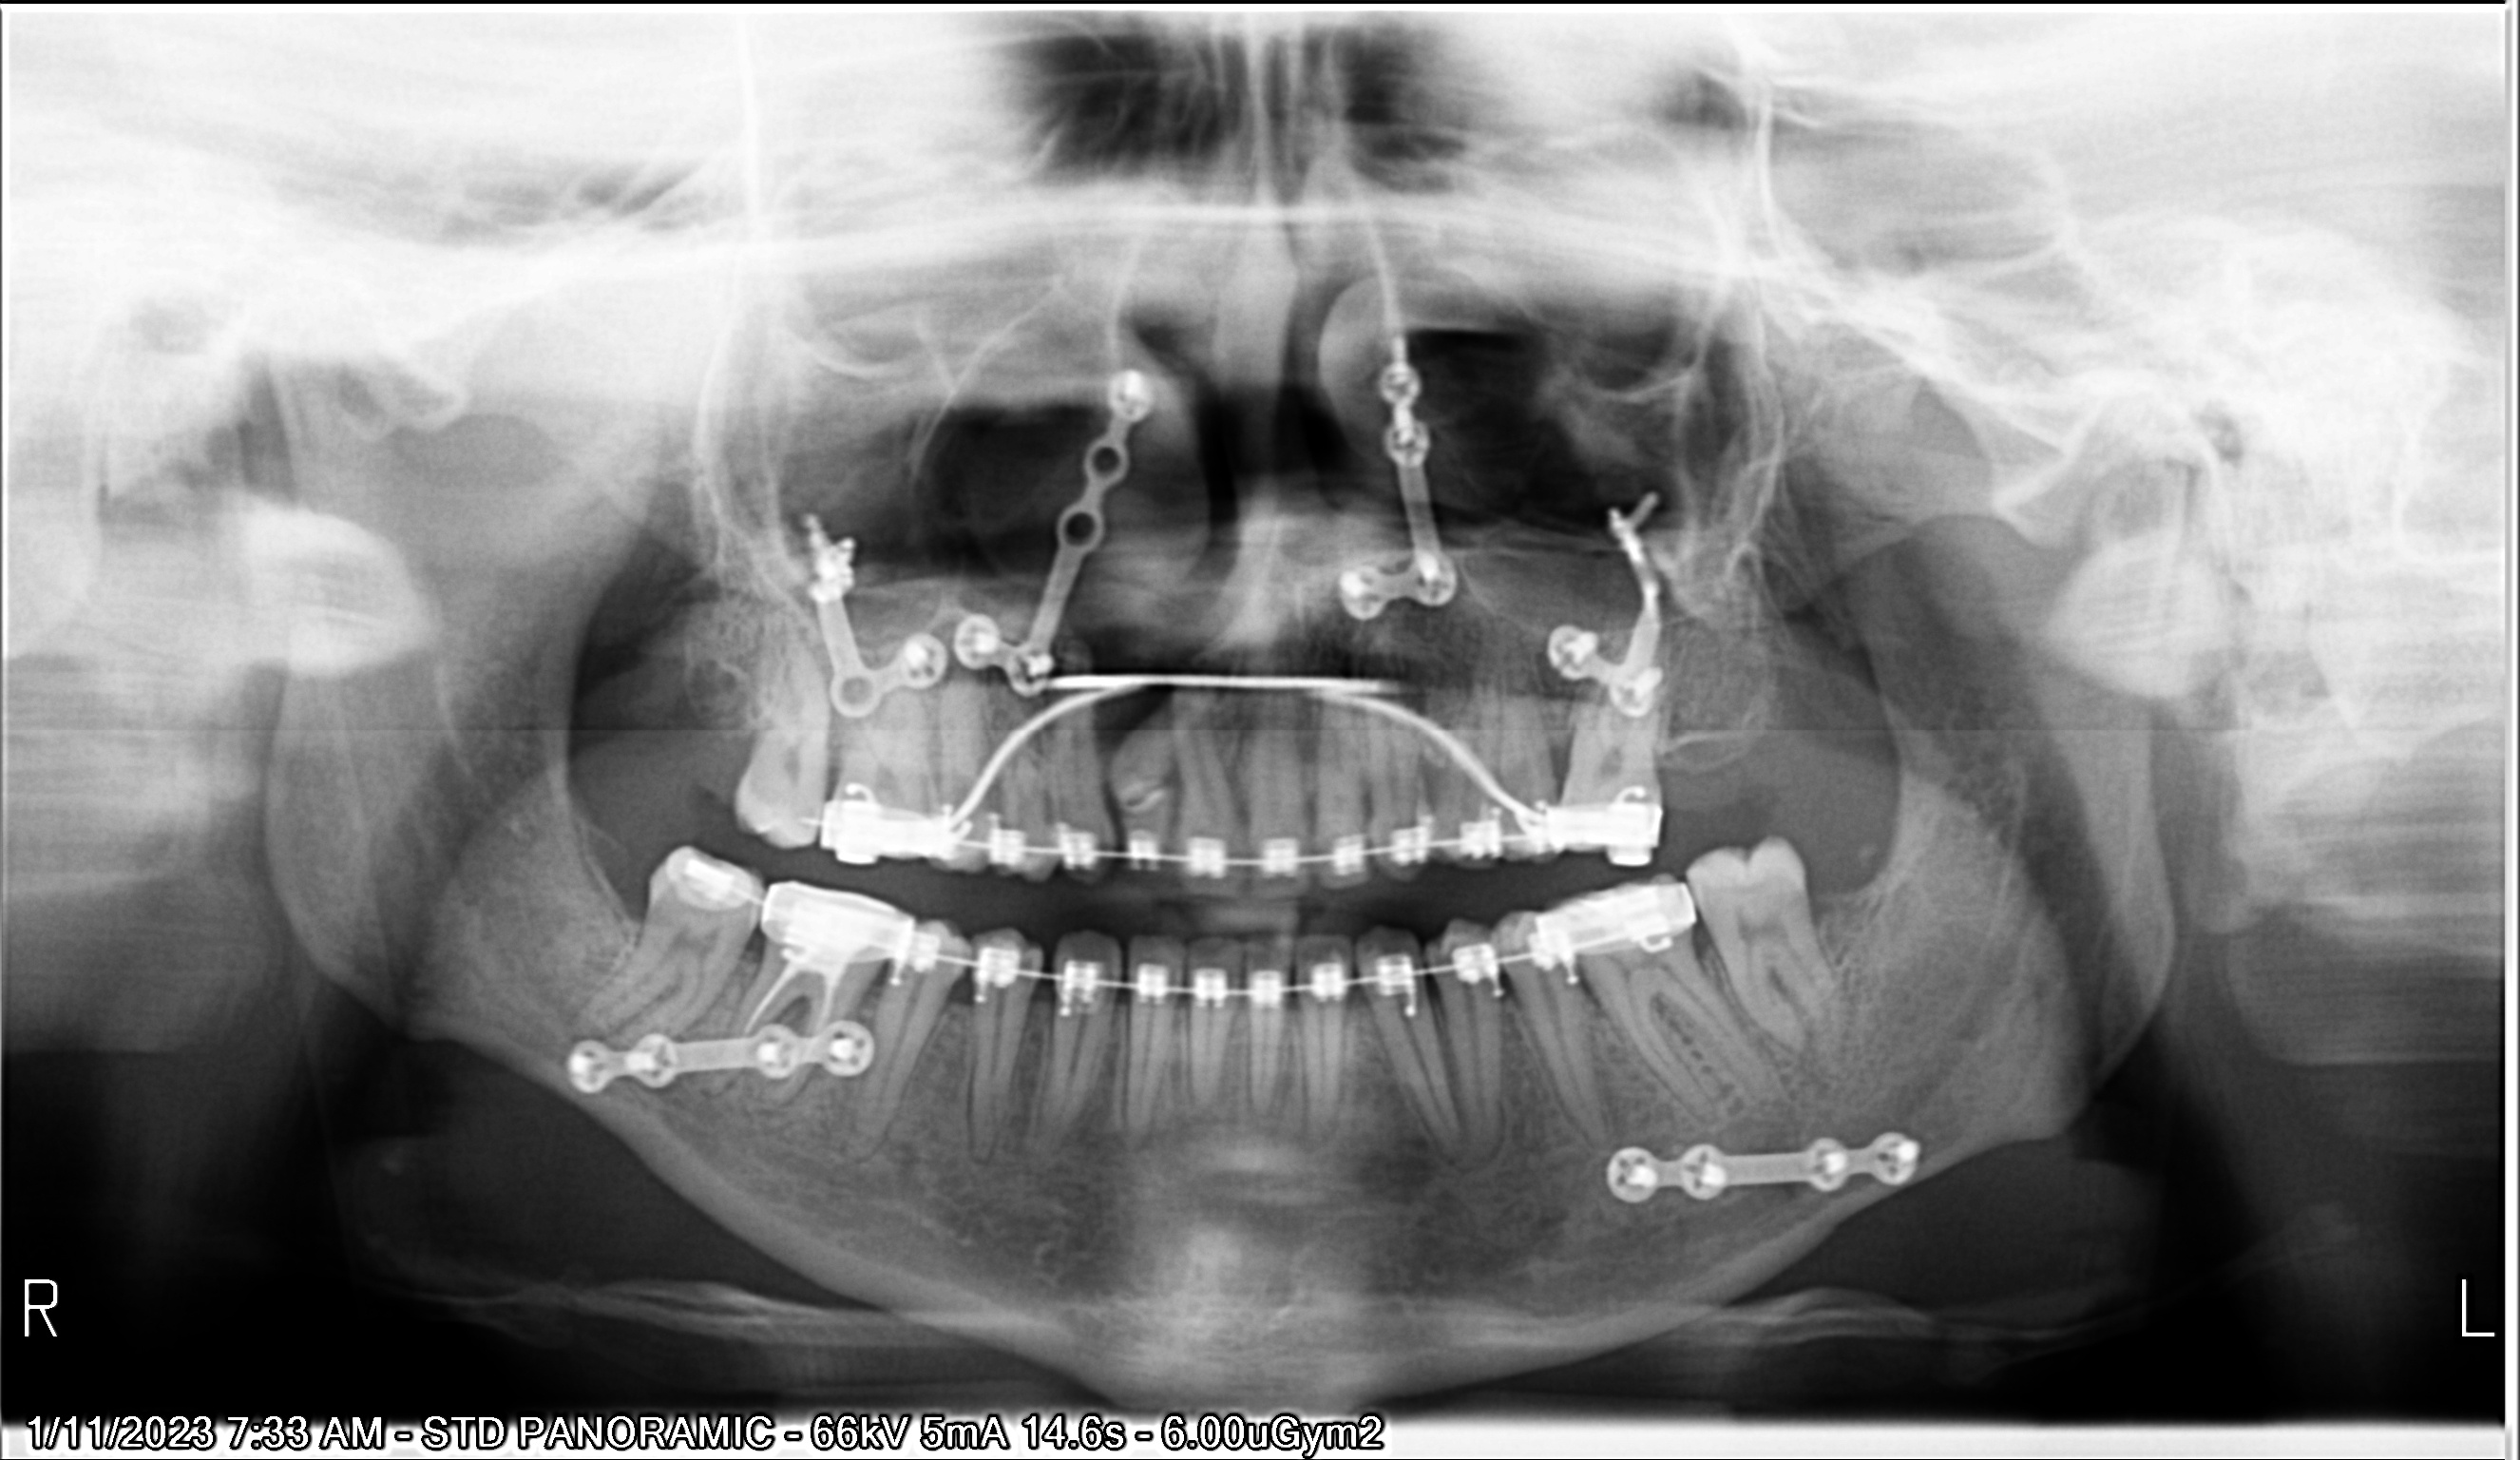END: (703, 972, 870, 1102)
ORD: (775, 640, 1704, 900), (613, 817, 1770, 1015)
SRD: (910, 348, 1181, 711), (1554, 1088, 1964, 1267), (1292, 313, 1488, 652), (745, 497, 995, 744), (518, 1003, 910, 1154), (1513, 471, 1723, 725)
